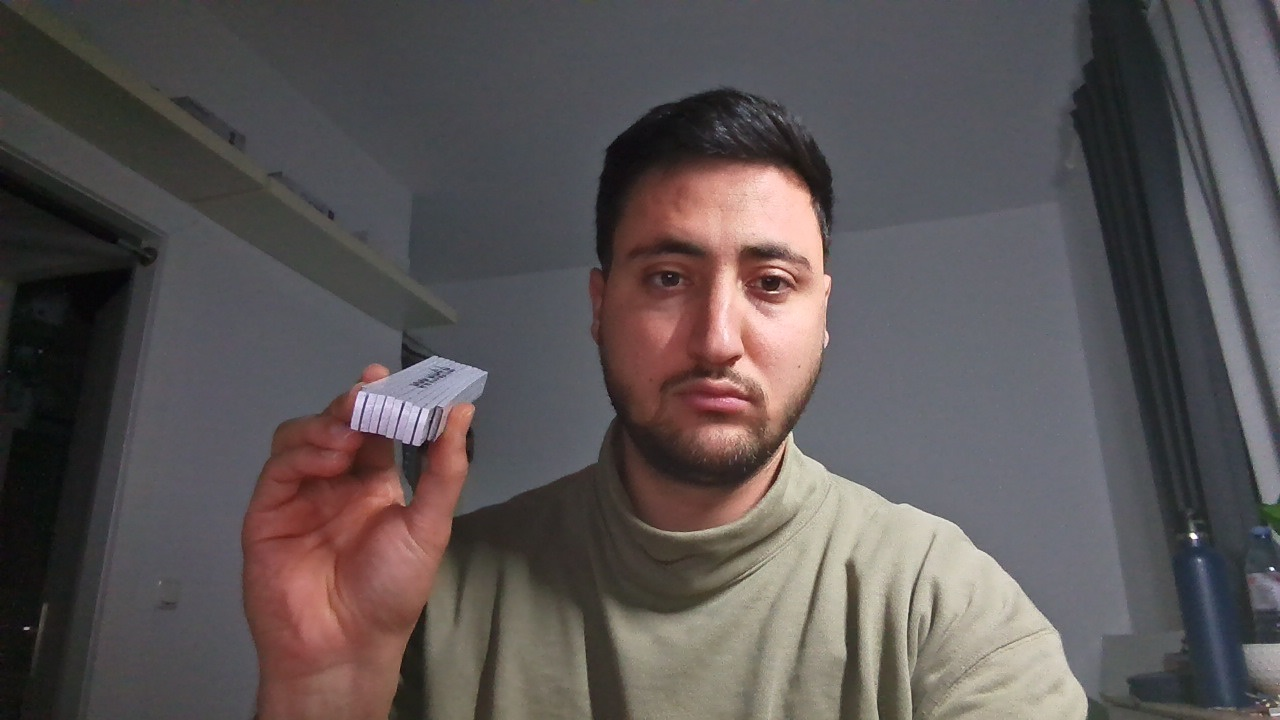Wasserflasche: (1149, 497, 1260, 713)
Zollstock: (347, 339, 497, 437)
me: (560, 57, 837, 501)
